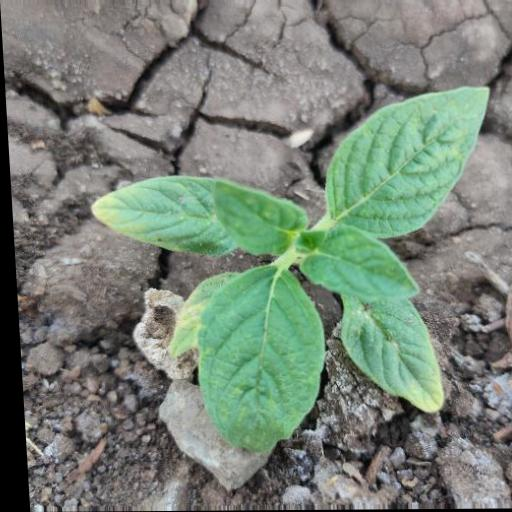crop: (79, 79, 512, 460)
